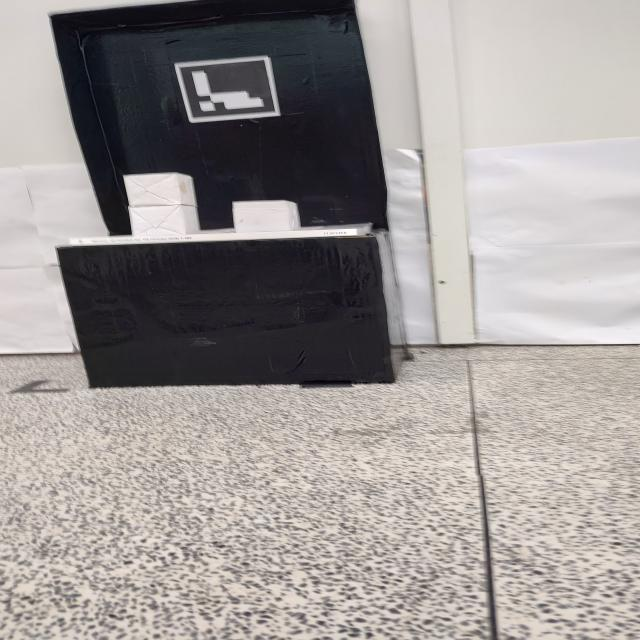bale: (122, 170, 203, 208), (124, 204, 205, 236), (230, 199, 306, 233)
